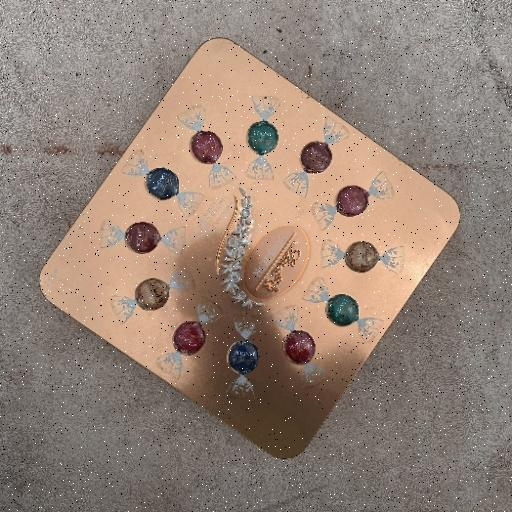Metal: (37, 36, 462, 459), (106, 96, 402, 392)
